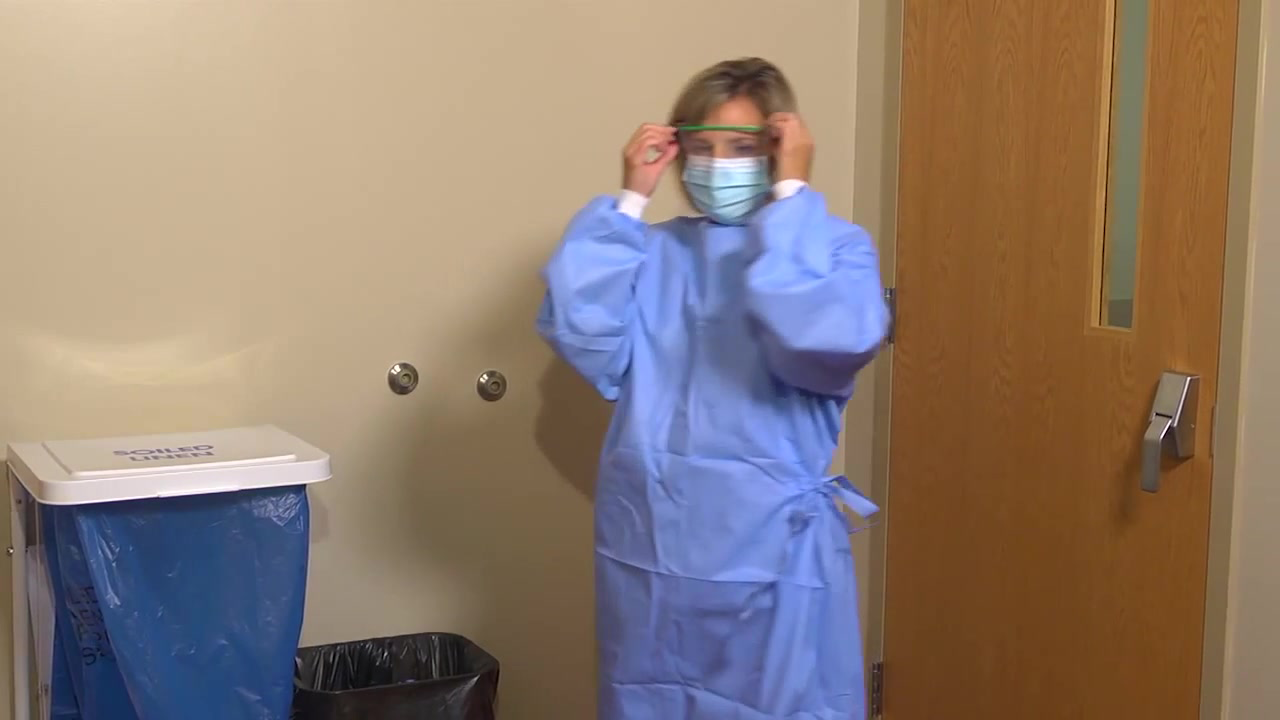Coverall: (527, 173, 893, 720)
Face_Shield: (663, 120, 785, 226)
with_mask: (687, 153, 772, 227)
